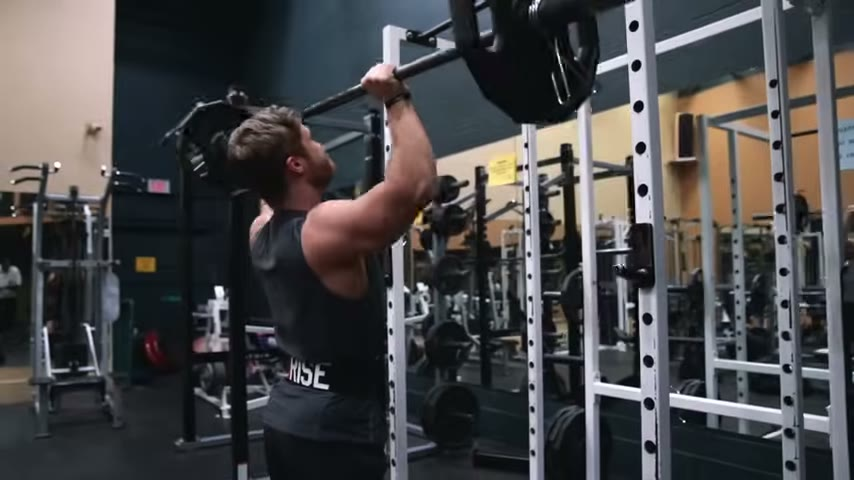barbell_plate_side: (162, 32, 279, 202), (459, 0, 527, 141)
